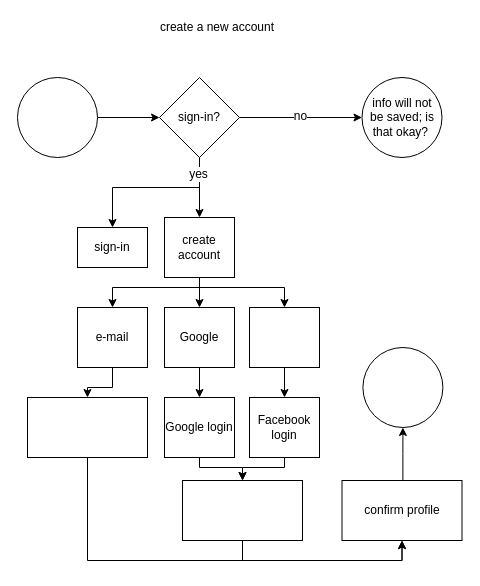
This 480x586 diagram has some shape labels left out. The shapes that lost their labels are listed below. From the top down, each one's centre as x and y in pixels, then its label:
At pixel 57 117: "user downloads app".
At pixel 284 337: "Facebook".
At pixel 402 387: "opens dashboard".
At pixel 87 427: "create username and password".
At pixel 242 510: "authorization request".
